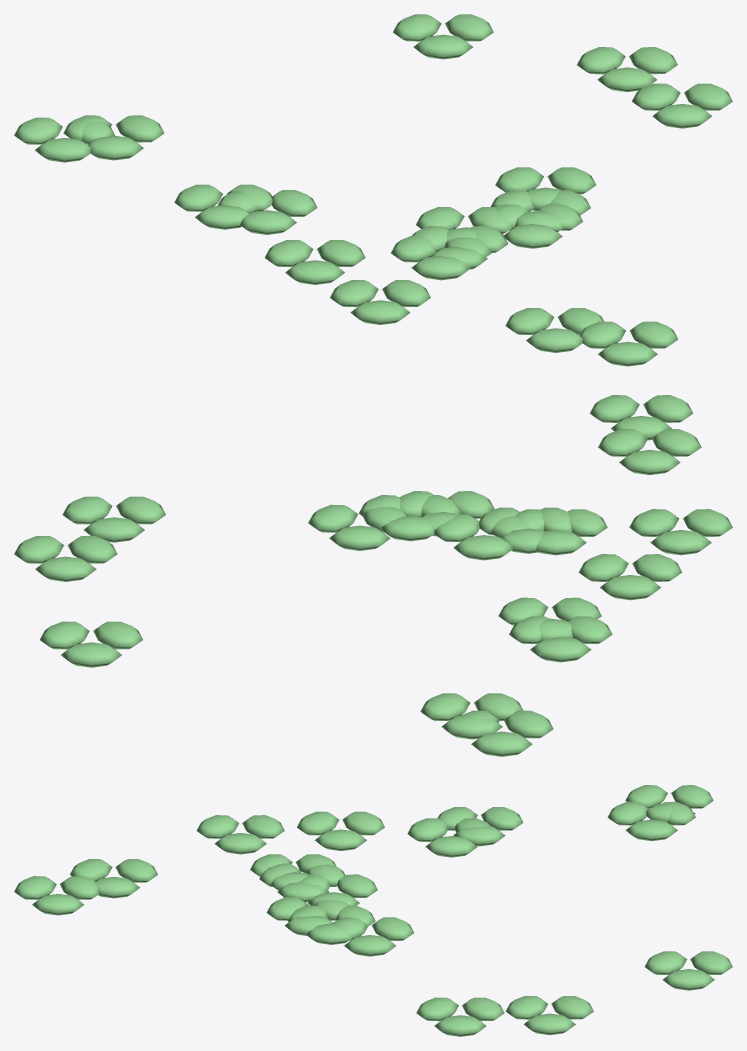
Rendered from layer_summer_cluster.glb.
3 views of the same model, one above another, from view 1: azimuth 30°, elevation 25°; view 2: azimuth 150°, elevation 25°; view 3: azimuth 270°, elevation 25° (orthographic). The views are drawn at different scales.
Size of the model in its own units: 1.33 by 0.035 by 1.64.
